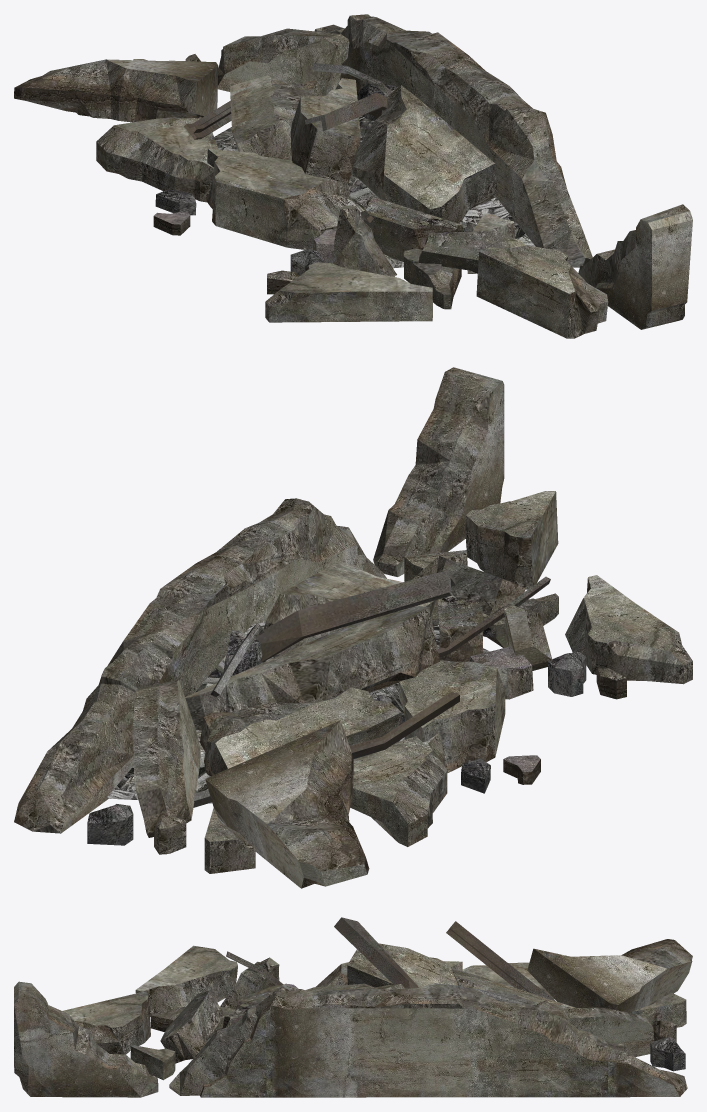
The model's file is concrete_debris256barricade001a.glb.
3 renders of one model, top to bottom at view 1: azimuth 30°, elevation 25°; view 2: azimuth 150°, elevation 25°; view 3: azimuth 270°, elevation 25°, orthographic. The views are drawn at different scales.
Visible parts, largest first — view 1: 0_composite_debris, 1_concretefloor020a; view 2: 0_composite_debris, 1_concretefloor020a; view 3: 0_composite_debris.
Boxes of the visible parts, box(x1,y1,x2,y2) form: 0_composite_debris: box(14, 14, 692, 338); 1_concretefloor020a: box(214, 116, 535, 268); 0_composite_debris: box(14, 367, 692, 888); 1_concretefloor020a: box(106, 622, 489, 803); 0_composite_debris: box(14, 917, 692, 1097).
Size of the model in its own units: 3.01 by 1.1 by 6.46.
2 materials, 2 textured.
